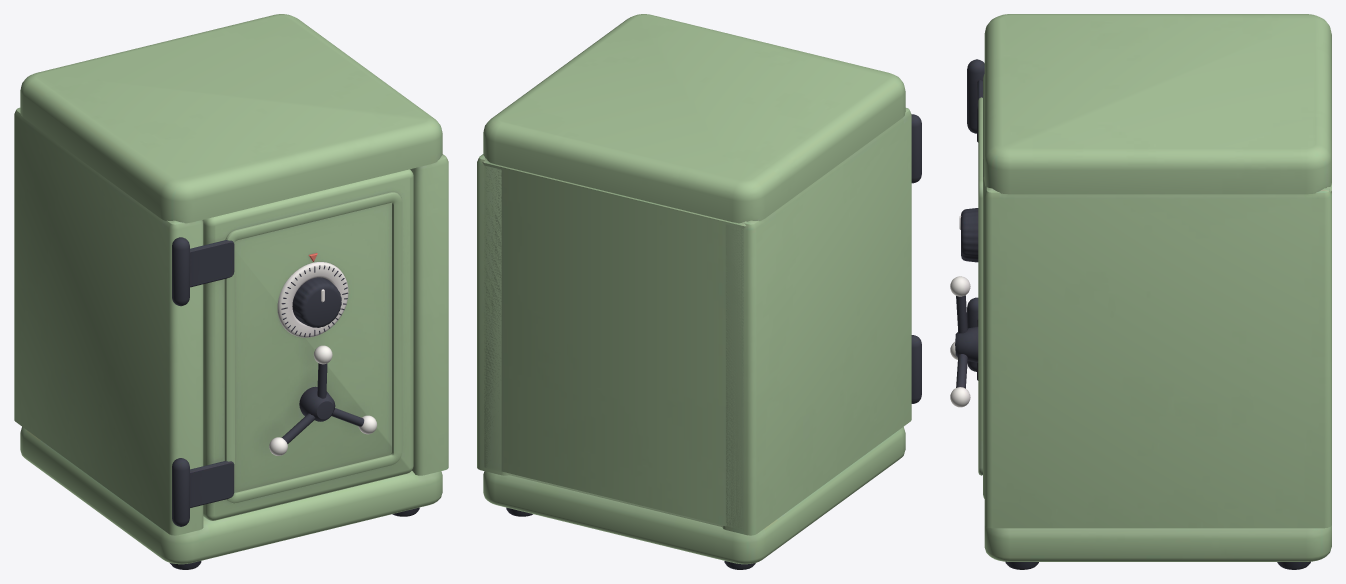
Rendered from safe.glb.
The picture shows the model from 3 angles, left to right: view 1: azimuth 30°, elevation 25°; view 2: azimuth 150°, elevation 25°; view 3: azimuth 270°, elevation 25°; orthographic projection. The views are drawn at different scales.
Visible parts, largest first — view 1: office-safe_body, office-safe_door; view 2: office-safe_body, office-safe_door; view 3: office-safe_body, office-safe_door.
Boxes of the visible parts, x1,y1,x2,y2 form: office-safe_body: [14, 14, 448, 569]; office-safe_door: [172, 169, 413, 526]; office-safe_body: [477, 14, 911, 569]; office-safe_door: [911, 114, 921, 403]; office-safe_body: [984, 14, 1331, 569]; office-safe_door: [950, 59, 984, 498].
Size of the model in its own units: 0.4648 by 0.62 by 0.5055.
Materials: 2 (2 with a texture image).
